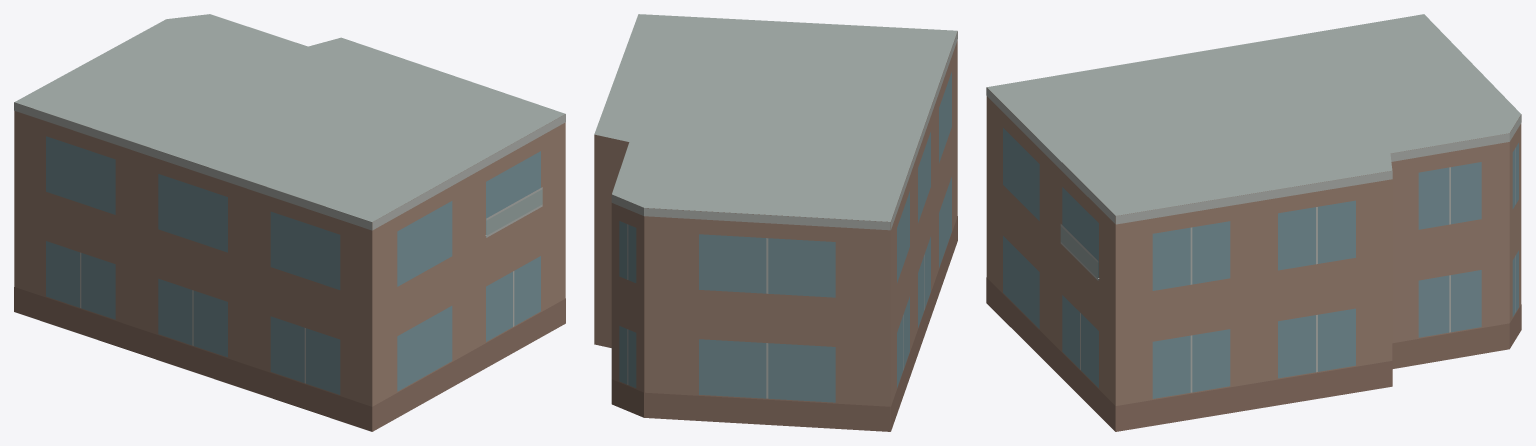
The model's file is survey-upis-32945387.glb.
3 views of the same model, side by side, from view 1: azimuth 30°, elevation 25°; view 2: azimuth 150°, elevation 25°; view 3: azimuth 270°, elevation 25° (orthographic). The views are drawn at different scales.
Parts seen in each view (by area): view 1: survey-upis-32945387.tmp; view 2: survey-upis-32945387.tmp; view 3: survey-upis-32945387.tmp.
Part boxes in pixels (<box>): survey-upis-32945387.tmp: <box>14,14,565,431</box>; survey-upis-32945387.tmp: <box>594,14,957,431</box>; survey-upis-32945387.tmp: <box>986,14,1521,431</box>.
Bounding box in the file's own units: 12.24 × 6.1 × 13.7.
